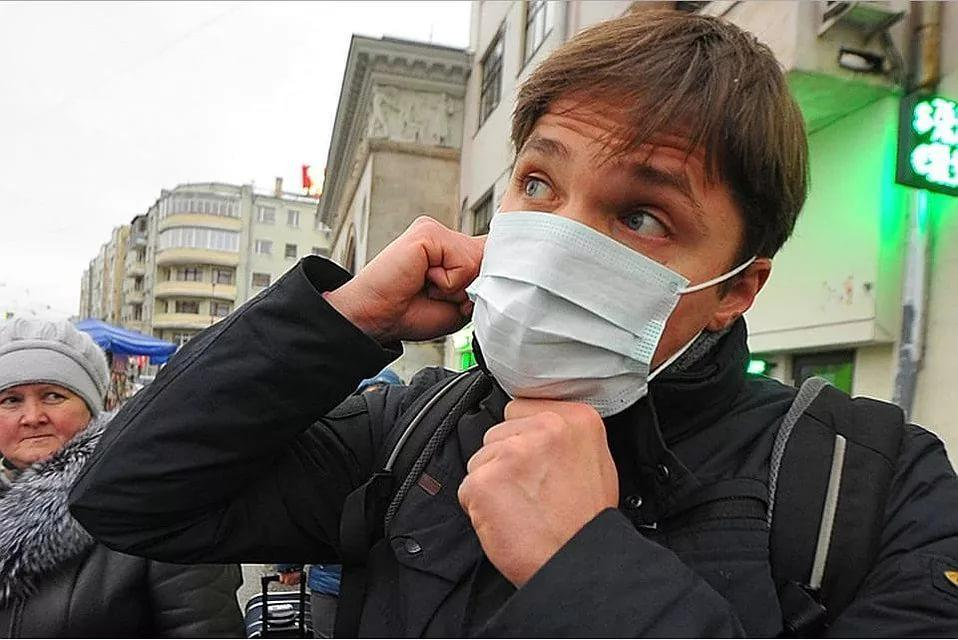mask: (465, 107, 757, 406)
none: (2, 366, 90, 459)
